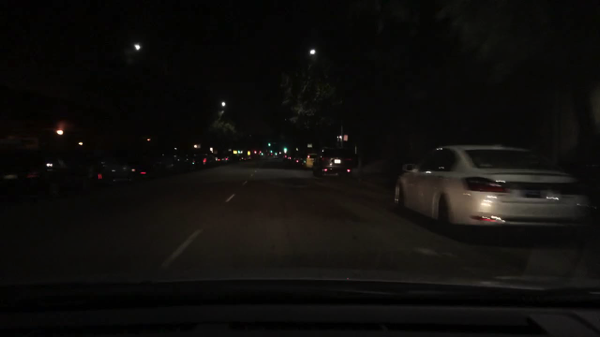car: (393, 142, 594, 238), (1, 128, 90, 199), (94, 148, 169, 184), (313, 145, 355, 178), (156, 149, 196, 173), (192, 150, 220, 167), (304, 153, 317, 168), (220, 152, 235, 163), (295, 155, 306, 167), (286, 155, 294, 164), (241, 154, 249, 161), (272, 153, 279, 160), (282, 156, 289, 161), (253, 154, 258, 160)
traffic light: (267, 142, 272, 147), (283, 147, 287, 153)
traffic sign: (308, 143, 313, 149), (233, 150, 239, 155), (246, 151, 251, 156), (343, 135, 347, 141)
